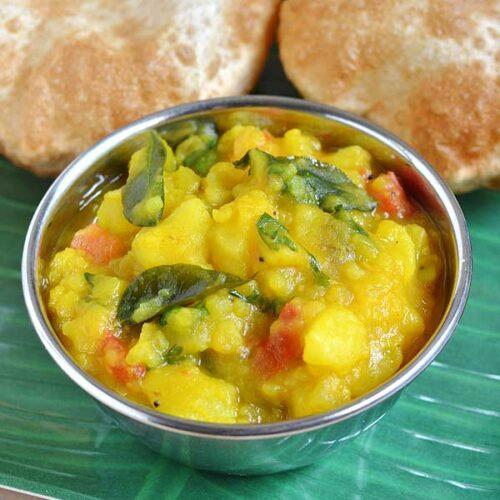puri: (0, 0, 500, 124)
